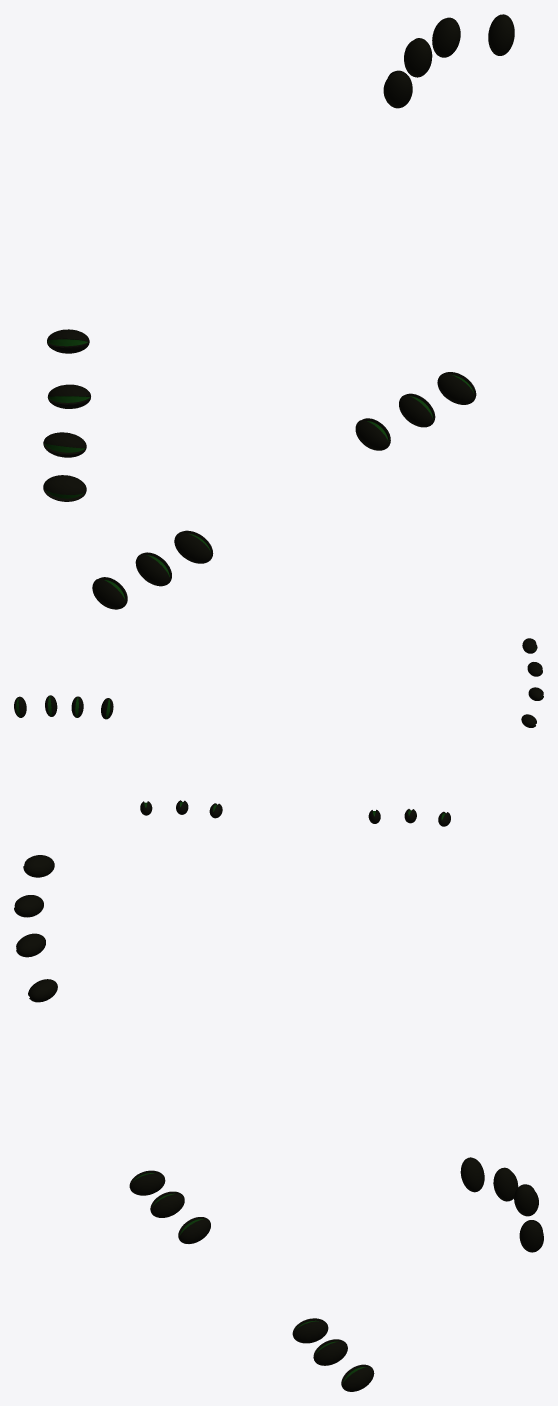
3 renders of one model, top to bottom at view 1: azimuth 30°, elevation 25°; view 2: azimuth 150°, elevation 25°; view 3: azimuth 270°, elevation 25°, orthographic. The views are drawn at different scales.
Visible parts, largest first — view 1: Seed_3_2, Seed_3.001, Seed_1_3_2, Seed_2.001, Seed_2_2, Seed_1_5, Seed_1_4, Seed_1_6, Seed_1_2_2, Seed_1_7, Seed_1.001, Seed_1_2 (+2 smaller); view 2: no part large enough to name; view 3: Seed_1.001, Seed_1_2, Seed_2_2, Seed_2.001, Seed_3.001, Seed_3_2, Seed_1_7, Seed_1_6, Seed_1_4, Seed_1_5.
Boxes of the visible parts, bbox=[...] form: Seed_3_2: bbox=[174, 530, 213, 563]; Seed_3.001: bbox=[437, 372, 476, 404]; Seed_1_3_2: bbox=[43, 475, 86, 501]; Seed_2.001: bbox=[399, 393, 435, 427]; Seed_2_2: bbox=[135, 552, 171, 586]; Seed_1_5: bbox=[432, 17, 460, 57]; Seed_1_4: bbox=[488, 14, 514, 55]; Seed_1_6: bbox=[404, 38, 432, 77]; Seed_1_2_2: bbox=[43, 432, 86, 457]; Seed_1_7: bbox=[383, 70, 412, 108]; Seed_1.001: bbox=[355, 418, 390, 450]; Seed_1_2: bbox=[92, 577, 127, 609]; Seed_1.001: bbox=[292, 1318, 328, 1343]; Seed_1_2: bbox=[129, 1170, 165, 1195]; Seed_2_2: bbox=[150, 1191, 184, 1217]; Seed_2.001: bbox=[313, 1339, 347, 1365]; Seed_3.001: bbox=[341, 1364, 374, 1391]; Seed_3_2: bbox=[178, 1217, 210, 1243]; Seed_1_7: bbox=[460, 1157, 484, 1192]; Seed_1_6: bbox=[493, 1167, 518, 1201]; Seed_1_4: bbox=[519, 1220, 543, 1252]; Seed_1_5: bbox=[514, 1184, 538, 1216].
Bounding box in the file's own units: 120 × 86.16 × 53.11.
